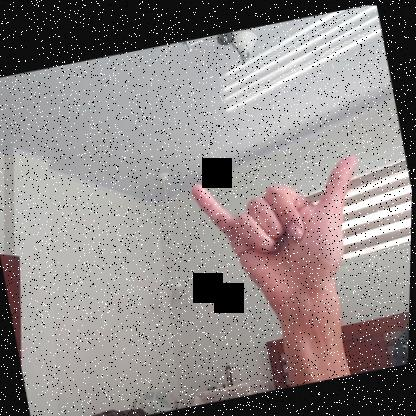Y: (184, 144, 388, 325)
